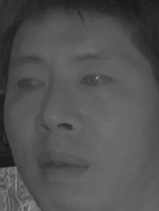eye: (77, 71, 114, 92), (13, 74, 46, 96)
mouth: (34, 146, 90, 184)
